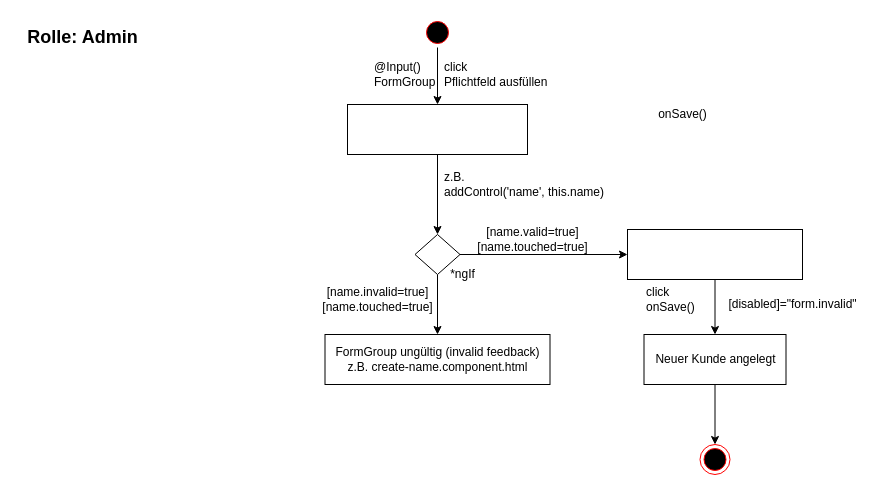
This 879x492 diagram has some shape labels left out. Each missing label, with the centre of its shape:
"FormGroup gültig create-name.component.html" belongs at point (714, 254).
"Formular create-kunde.component.html" belongs at point (437, 129).
